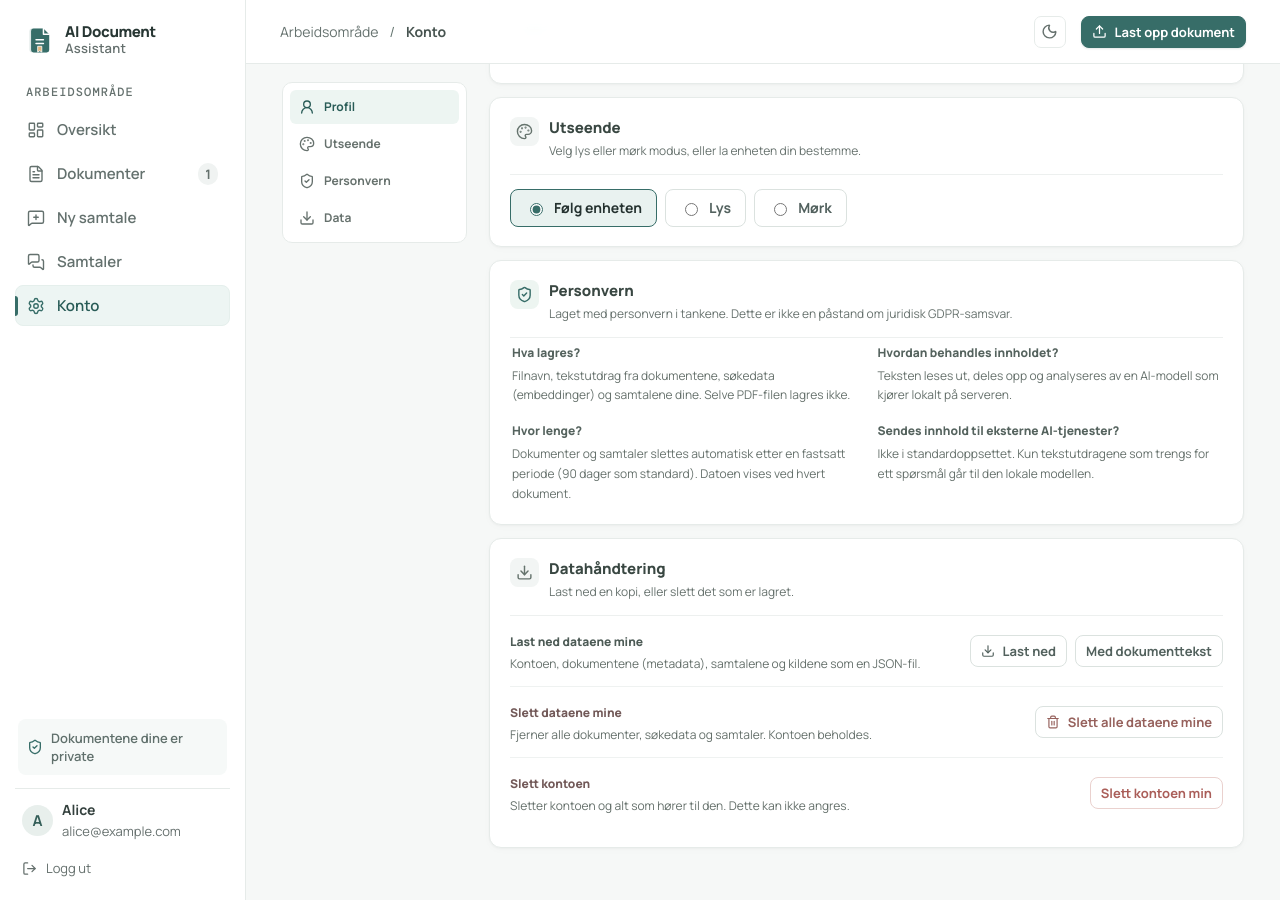
it: account and privacy › requires the password before erasing all data
(page scrolled)
Click the button "Slett alle dataene mine": (1129, 722) [1035, 706, 1223, 738]
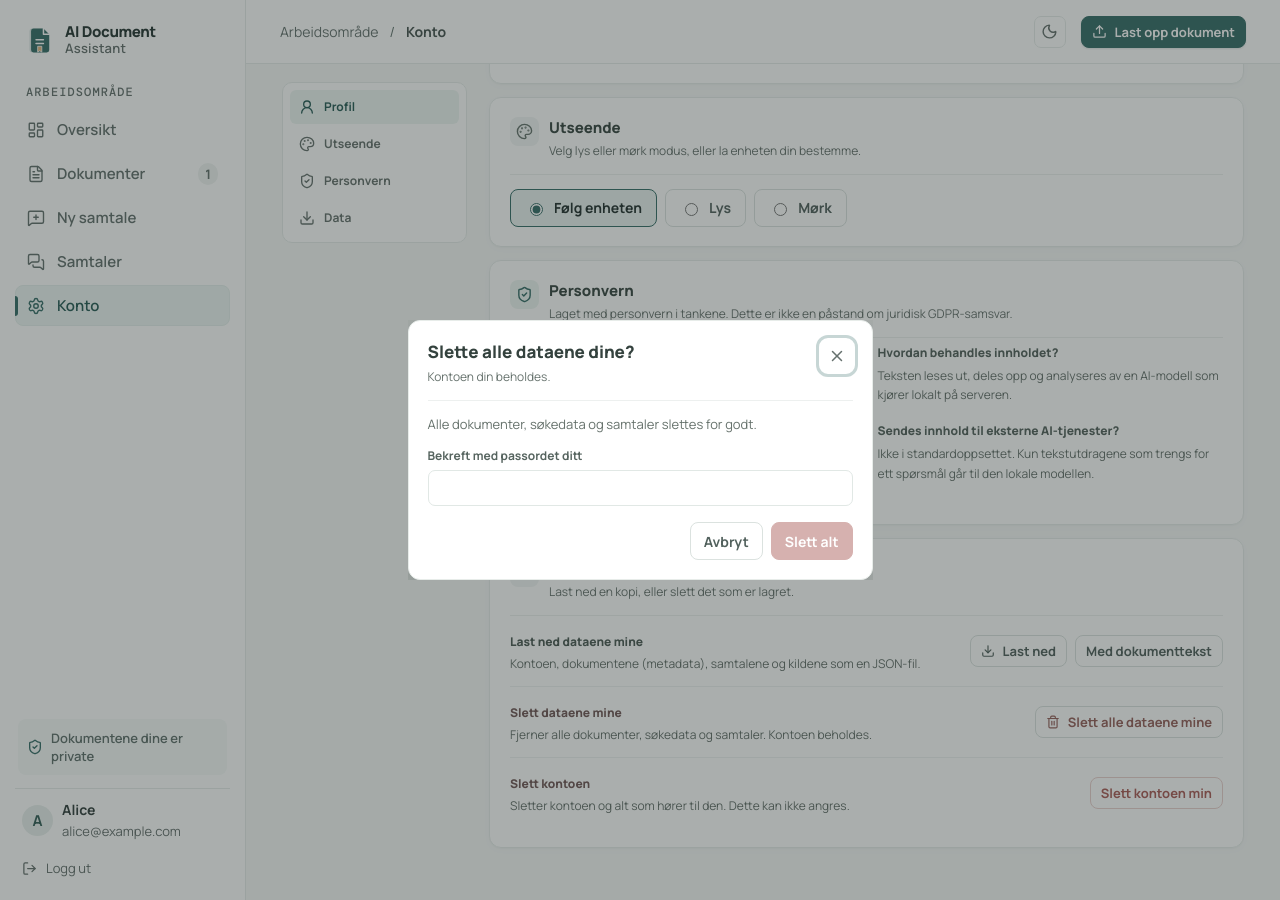
Expected: the button "Slett alt" is disabled, [771, 522, 852, 560]
In the password field labelled "Bekreft med passordet ditt": (640, 488) [428, 470, 852, 506], type "correct-horse-1"
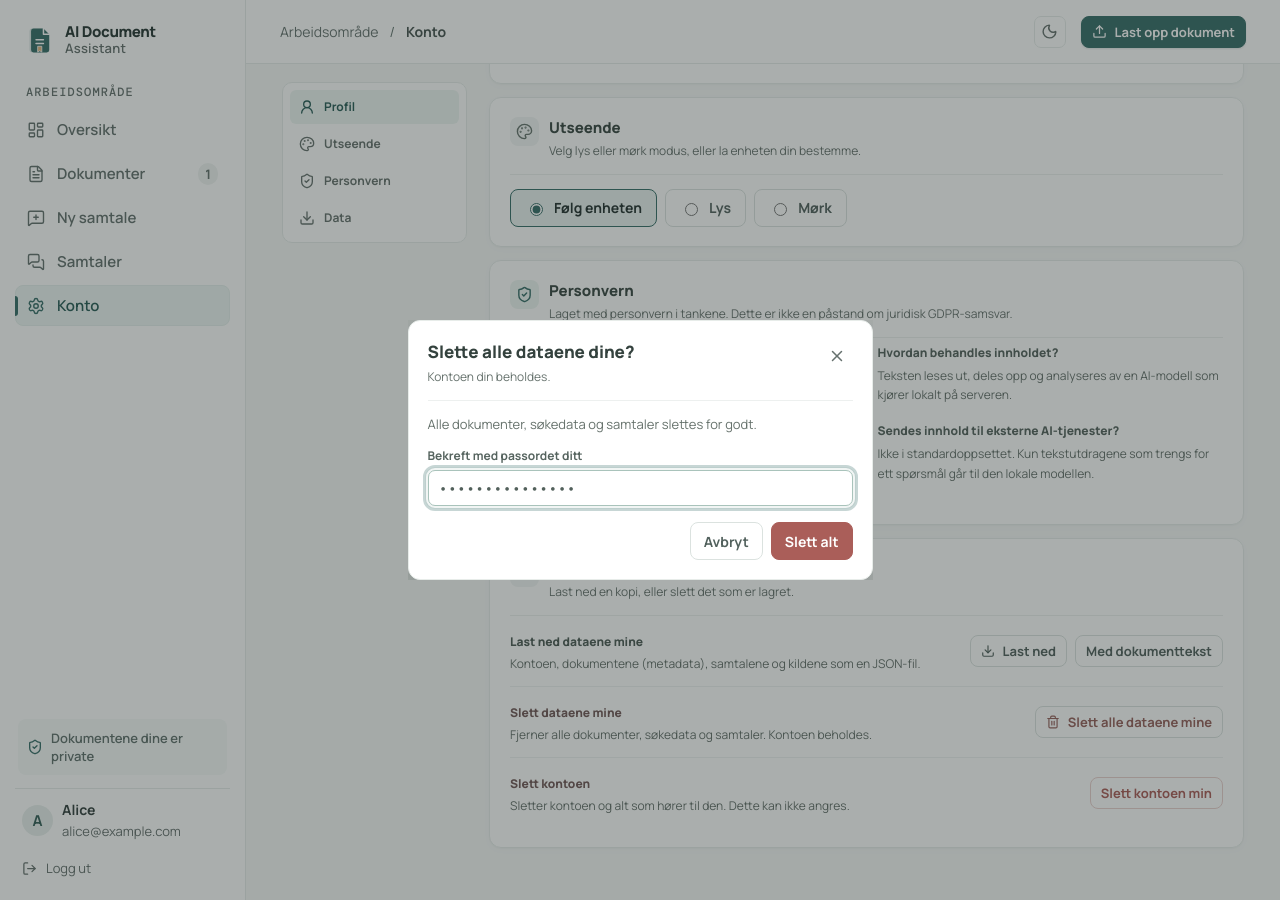
Click the button "Slett alt": (812, 541) [771, 522, 852, 560]
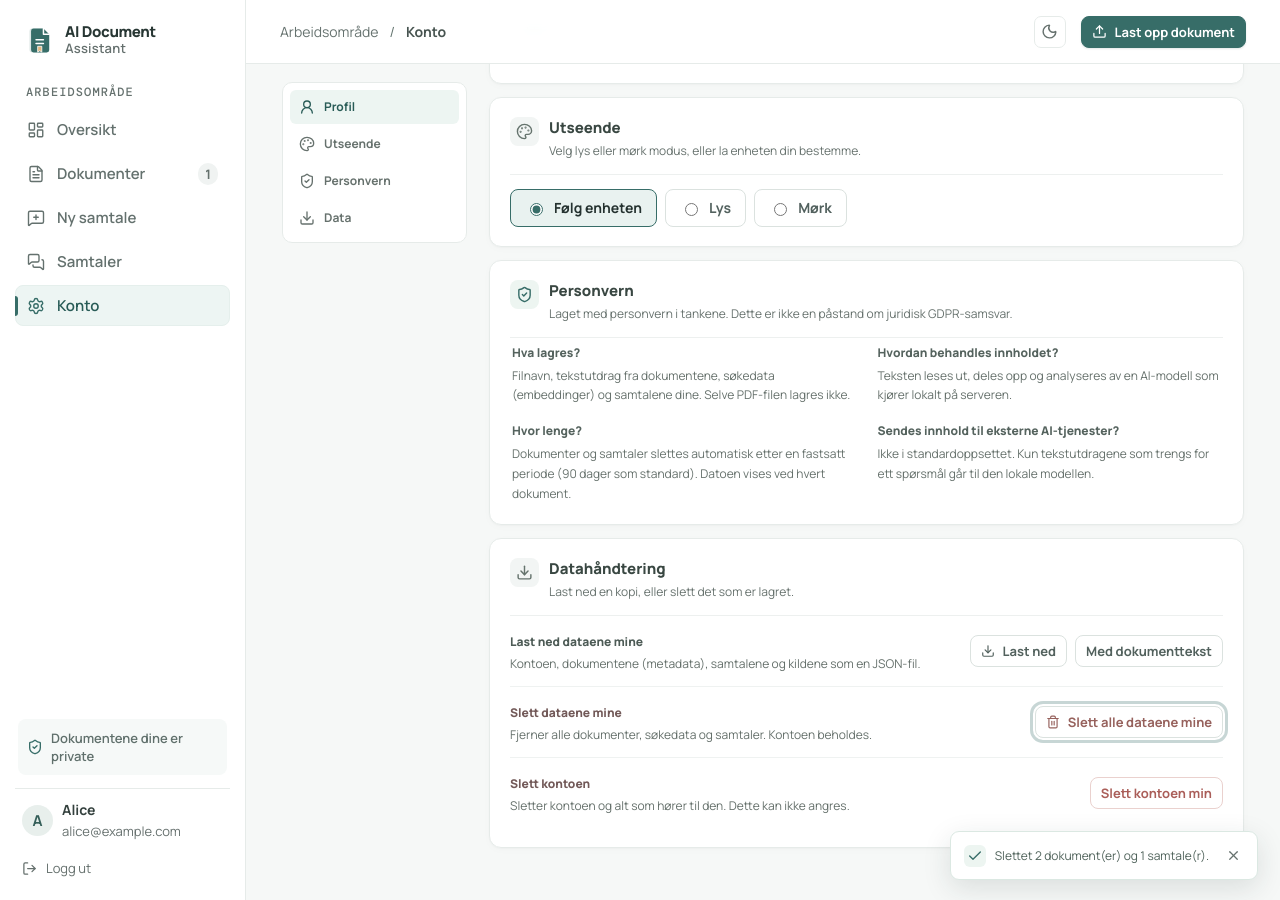
Expected: the text "Slettet 2 dokument(er) og 1 samtale(r)." is shown, [995, 846, 1209, 864]
